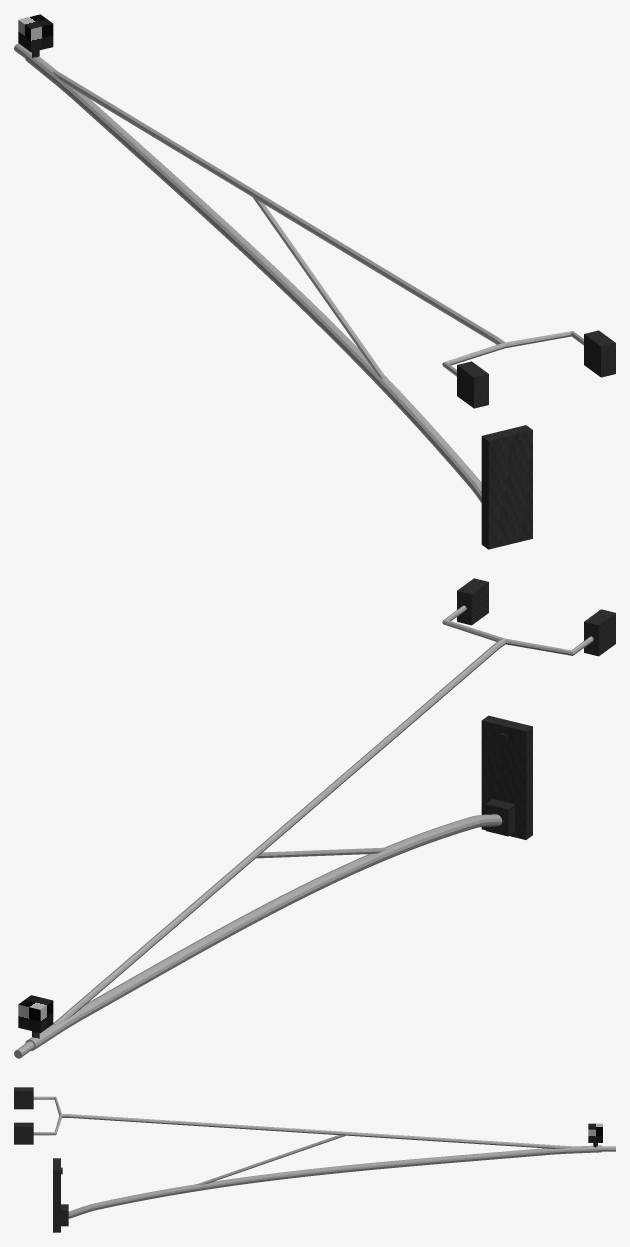
File: arm_7_straight.obj
3 views of the same model, one above another, from view 1: azimuth 30°, elevation 25°; view 2: azimuth 150°, elevation 25°; view 3: azimuth 270°, elevation 25° (orthographic). The views are drawn at different scales.
Parts seen in each view (by area): view 1: pole_light_mount_7_straight; view 2: pole_light_mount_7_straight; view 3: pole_light_mount_7_straight.
Boxes of the visible parts, bbox=[...] form: pole_light_mount_7_straight: bbox=[14, 14, 615, 549]; pole_light_mount_7_straight: bbox=[14, 578, 615, 1058]; pole_light_mount_7_straight: bbox=[14, 1087, 615, 1232].
Size of the model in its own units: 1.19 by 1.68 by 7.69.
